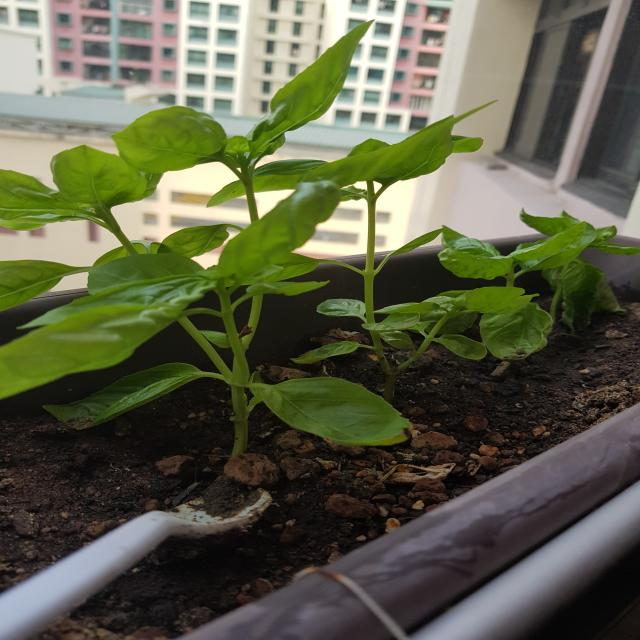Sweet Basil: (5, 27, 432, 485), (422, 184, 611, 358)
